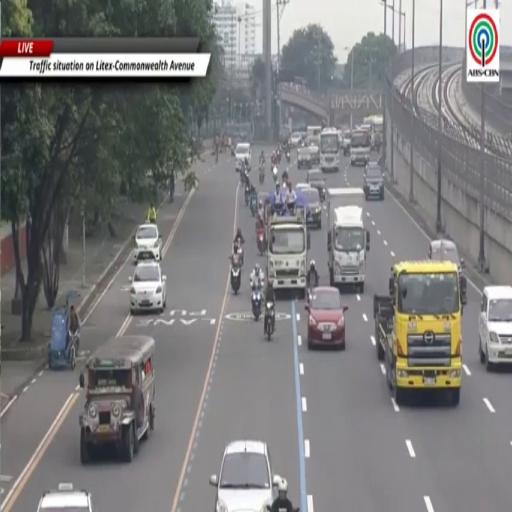bus: (319, 128, 340, 171), (307, 126, 321, 146)
car: (210, 440, 281, 511), (427, 238, 467, 308), (479, 286, 511, 371), (305, 286, 347, 349), (129, 262, 166, 314), (38, 484, 97, 511), (427, 238, 465, 274), (133, 223, 162, 264), (363, 163, 384, 200), (303, 187, 321, 229), (307, 169, 326, 201), (235, 142, 251, 170), (298, 147, 311, 169), (309, 143, 320, 166), (294, 182, 312, 193), (290, 132, 302, 147)
jeepney: (80, 335, 155, 463)
motorcycle: (265, 302, 275, 340), (252, 284, 262, 321), (230, 262, 241, 294), (68, 330, 79, 353), (257, 229, 265, 255), (236, 245, 244, 266), (250, 195, 257, 217), (244, 181, 250, 206), (259, 164, 264, 184), (273, 166, 278, 182), (277, 151, 281, 164), (286, 151, 290, 163), (231, 147, 235, 156), (294, 508, 300, 511)
tricycle: (48, 292, 79, 370), (249, 192, 257, 217)
truck: (374, 261, 462, 406), (327, 188, 369, 293), (267, 208, 310, 298), (350, 130, 371, 166), (372, 116, 383, 152)
